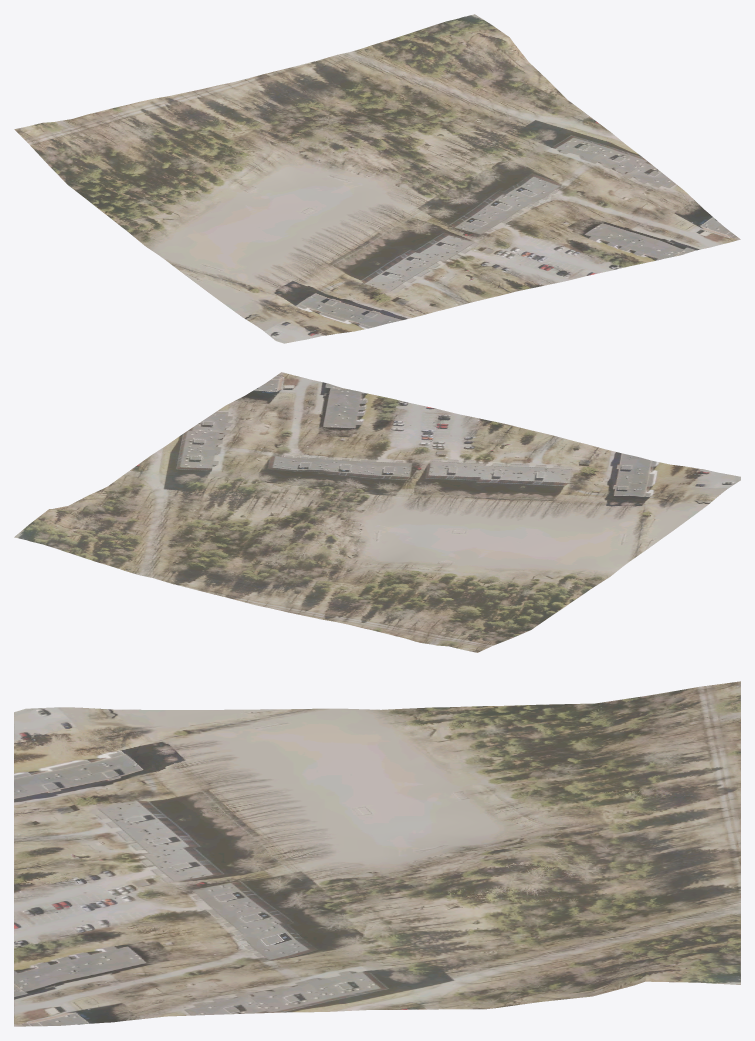
File: CM_Terrain_24491687_6814674.fbx
The picture shows the model from 3 angles, top to bottom: view 1: azimuth 30°, elevation 25°; view 2: azimuth 150°, elevation 25°; view 3: azimuth 270°, elevation 25°; orthographic projection. The views are drawn at different scales.
Visible parts, largest first — view 1: CM_Terrain_24491687_6814674_LOD0; view 2: CM_Terrain_24491687_6814674_LOD0; view 3: CM_Terrain_24491687_6814674_LOD0.
Boxes of the visible parts, bbox=[...] form: CM_Terrain_24491687_6814674_LOD0: bbox=[14, 14, 740, 343]; CM_Terrain_24491687_6814674_LOD0: bbox=[14, 372, 740, 652]; CM_Terrain_24491687_6814674_LOD0: bbox=[14, 681, 740, 1026].
Size of what is drawn, in the model's own units: 205 by 14.69 by 205.
